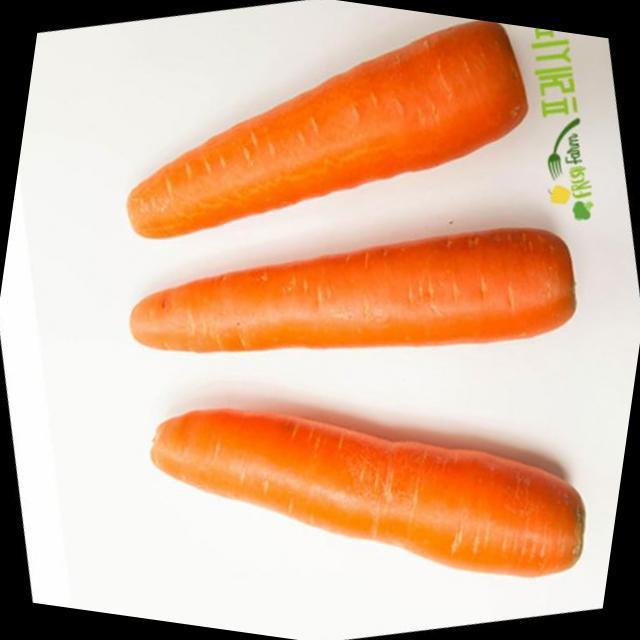Carrot: (128, 22, 528, 237), (154, 409, 585, 576), (131, 229, 575, 351)
